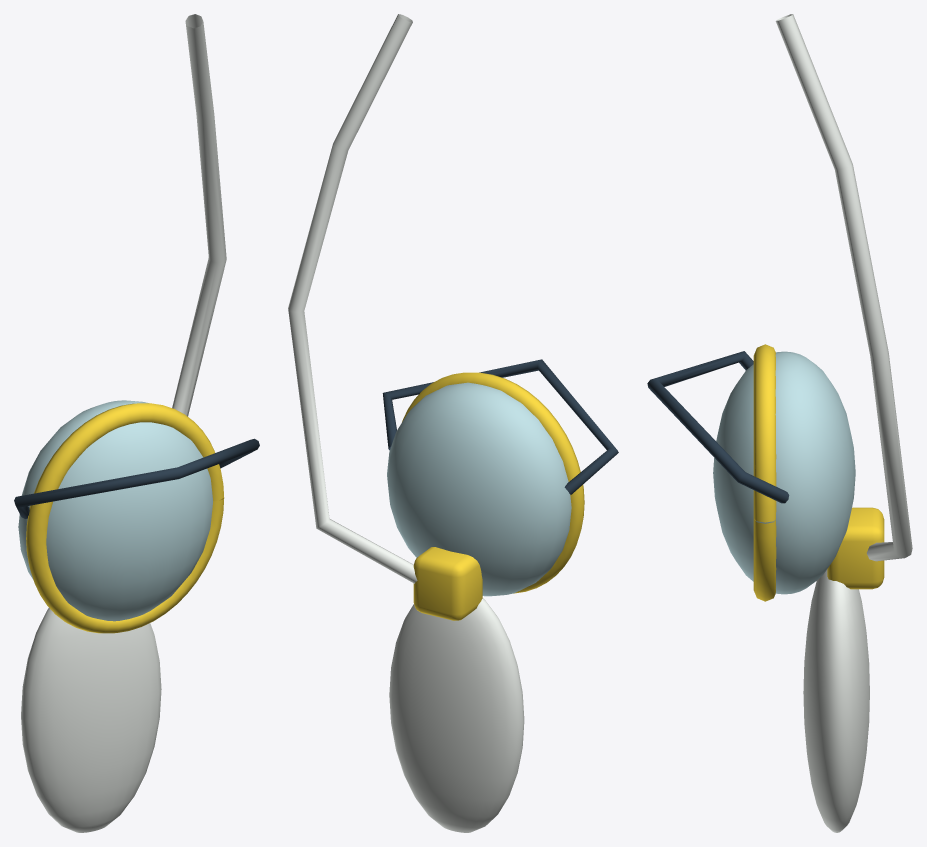
The model's file is oxygen-mask.glb.
3 views of the same model, side by side, from view 1: azimuth 30°, elevation 25°; view 2: azimuth 150°, elevation 25°; view 3: azimuth 270°, elevation 25° (orthographic). The views are drawn at different scales.
Visible parts, largest first — view 1: oxygen-mask; view 2: oxygen-mask; view 3: oxygen-mask.
Boxes of the visible parts, x1,y1,x2,y2 form: oxygen-mask: (14,14,259,832); oxygen-mask: (288,14,618,832); oxygen-mask: (647,14,912,832).
Size of the model in its own units: 0.1414 by 0.3969 by 0.1116.
